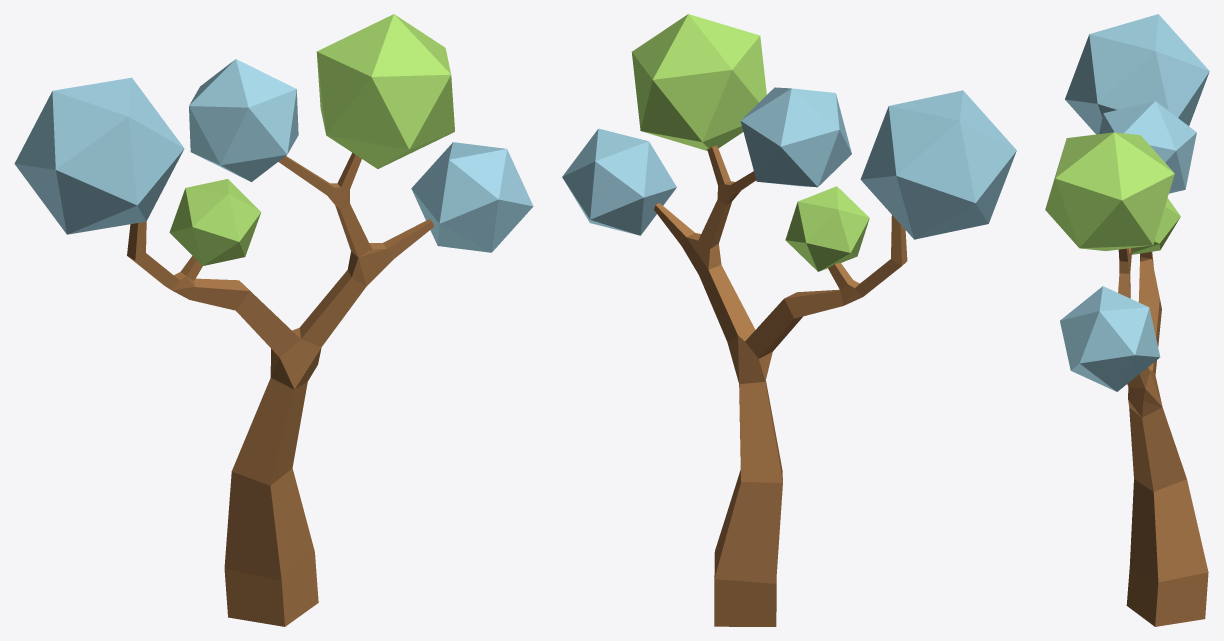
Rendered from Tree.glb.
The picture shows the model from 3 angles, left to right: view 1: azimuth 30°, elevation 25°; view 2: azimuth 150°, elevation 25°; view 3: azimuth 270°, elevation 25°; orthographic projection. The views are drawn at different scales.
Parts seen in each view (by area): view 1: Icosphere.002; view 2: Icosphere.002; view 3: Icosphere.002.
Part boxes in pixels (x1,y1,x2,y2): Icosphere.002: (14, 14, 533, 626); Icosphere.002: (562, 14, 1016, 626); Icosphere.002: (1045, 14, 1209, 626).
Size of the model in its own units: 0.9129 by 1.11 by 0.3193.
